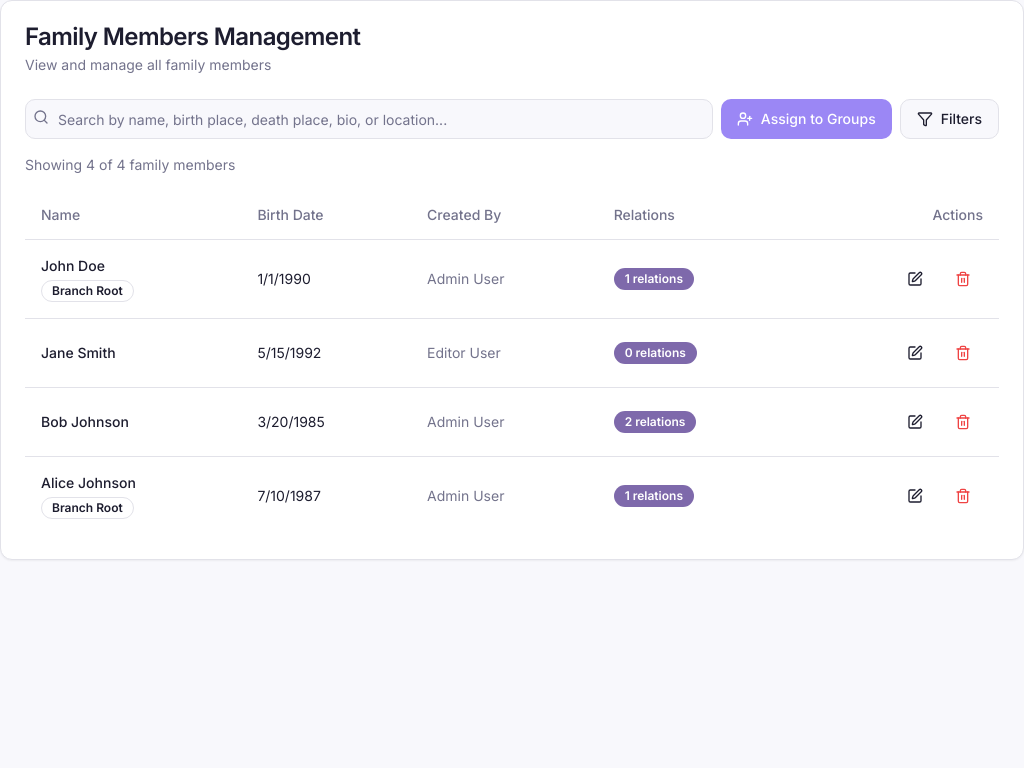
Test case: FamilyMembersTab › Search Functionality › should filter members by first name
Step 1. Replace the text in the field with placeholder "Search by name, birth place" with "John" → x=369, y=119, box [25,99,713,139]
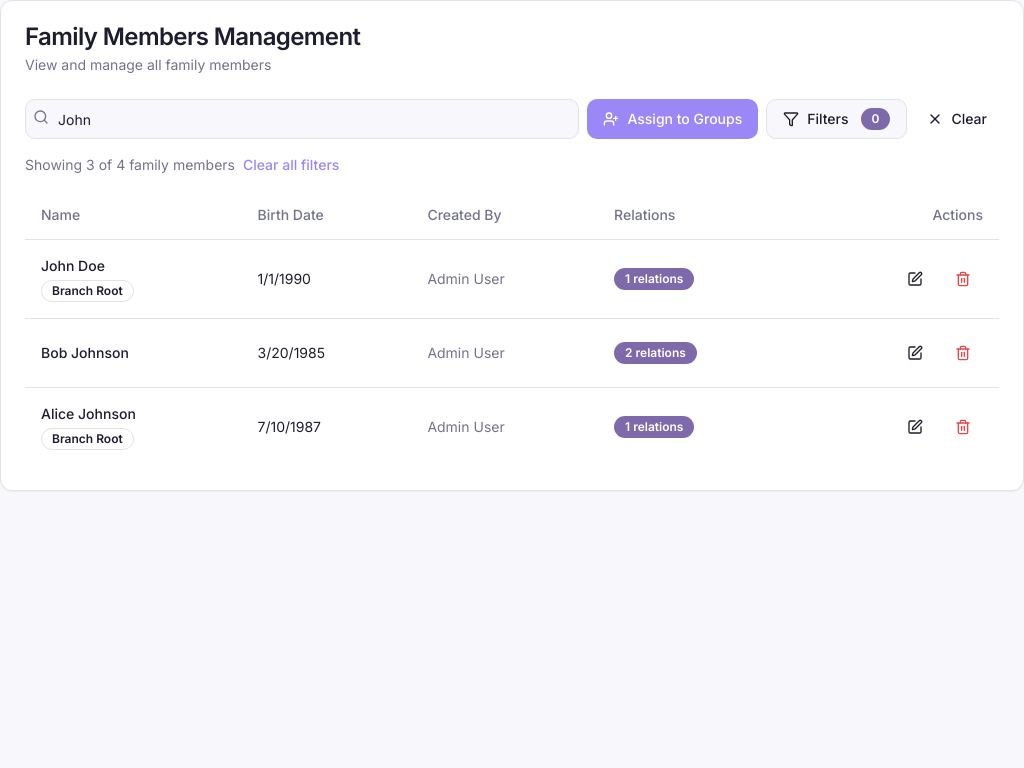
Check: the text "John Doe" is shown, box [41,256,105,274]
Check: the text "Jane Smith" is gone
